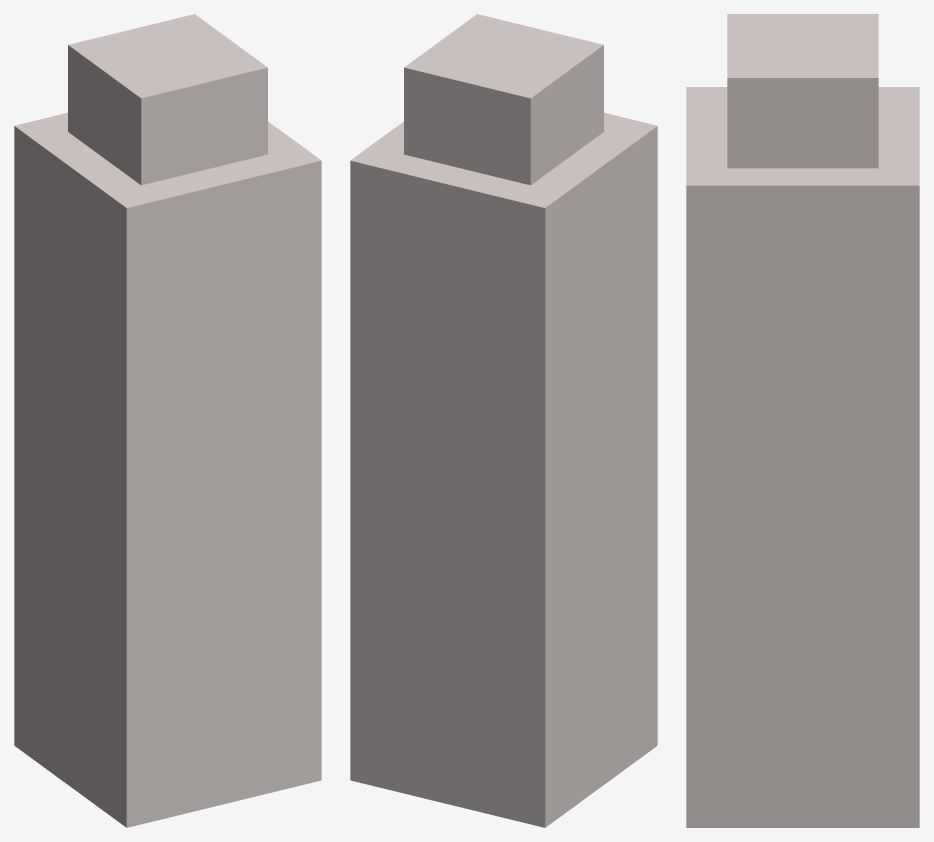
The model's file is fbx_school_outdoor_roof3.fbx.
The picture shows the model from 3 angles, left to right: view 1: azimuth 30°, elevation 25°; view 2: azimuth 150°, elevation 25°; view 3: azimuth 270°, elevation 25°; orthographic projection. The views are drawn at different scales.
Parts seen in each view (by area): view 1: fbx_school_outdoor_roof3; view 2: fbx_school_outdoor_roof3; view 3: fbx_school_outdoor_roof3.
Part boxes in pixels (bbox=[...]): fbx_school_outdoor_roof3: bbox=[14, 14, 321, 827]; fbx_school_outdoor_roof3: bbox=[350, 14, 657, 827]; fbx_school_outdoor_roof3: bbox=[686, 14, 919, 827].
Bounding box in the file's own units: 0.2766 × 0.9581 × 0.2766.
Materials: 1 (1 with a texture image).
